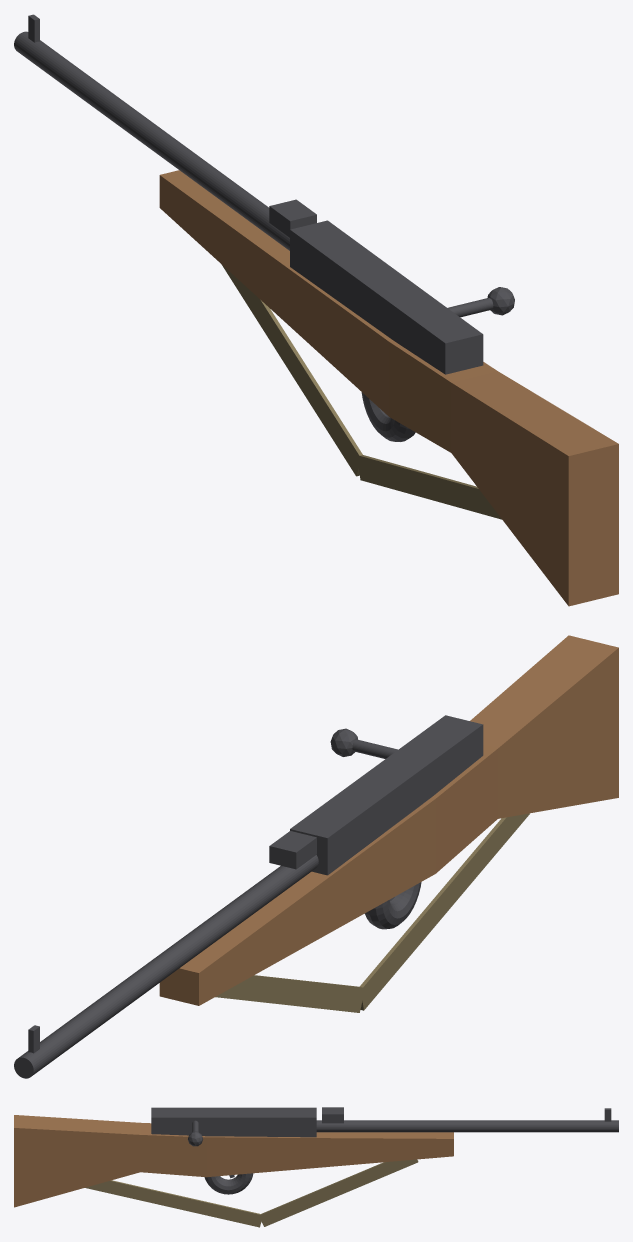
The model's file is rifle.glb.
The picture shows the model from 3 angles, top to bottom: view 1: azimuth 30°, elevation 25°; view 2: azimuth 150°, elevation 25°; view 3: azimuth 270°, elevation 25°; orthographic projection. The views are drawn at different scales.
Visible parts, largest first — view 1: Rifle; view 2: Rifle; view 3: Rifle.
Boxes of the visible parts, x1,y1,x2,y2 form: Rifle: [14, 14, 618, 606]; Rifle: [14, 635, 618, 1078]; Rifle: [14, 1107, 618, 1227].
Size of the model in its own units: 0.1283 by 0.2366 by 1.1.
